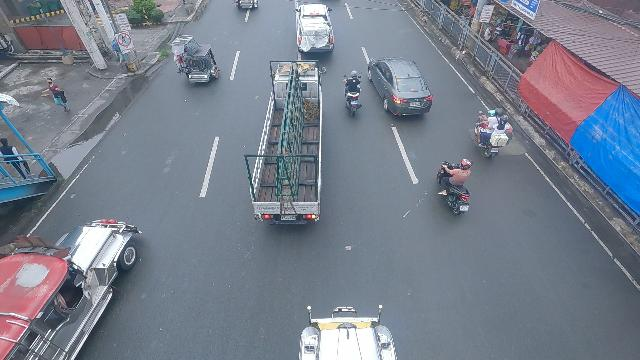car: (366, 55, 434, 119)
jeepney: (0, 218, 146, 360)
motorcycle: (436, 160, 472, 216), (473, 108, 510, 161), (340, 70, 363, 118)
truck: (244, 58, 326, 231), (295, 2, 336, 54)
